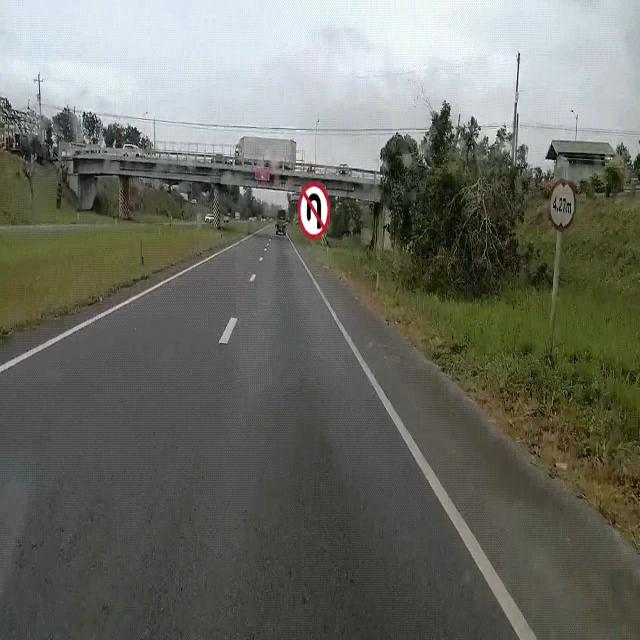Demi-Tour-Interdit: (296, 174, 332, 249)
